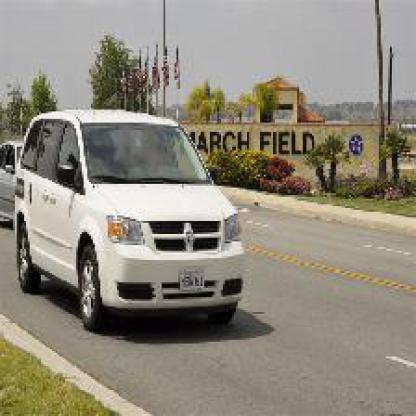not_emergency: (19, 104, 271, 334)
